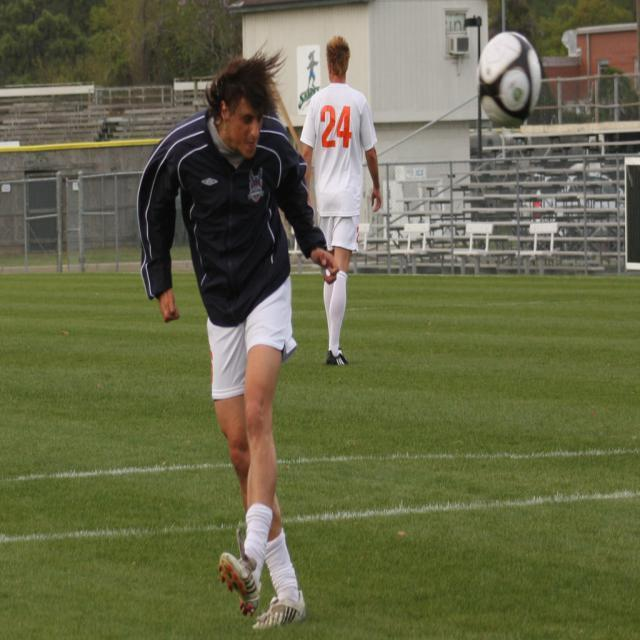football: (450, 13, 557, 141)
